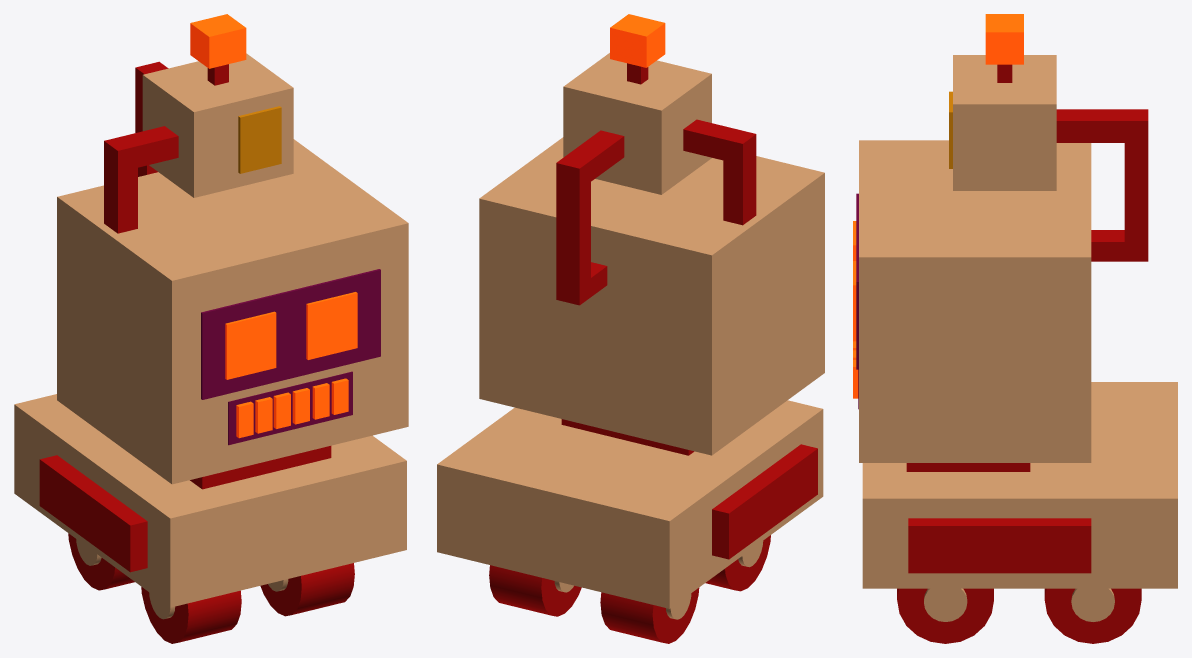
File: EnemyV1.fbx
3 views of the same model, side by side, from view 1: azimuth 30°, elevation 25°; view 2: azimuth 150°, elevation 25°; view 3: azimuth 270°, elevation 25° (orthographic). The views are drawn at different scales.
Parts seen in each view (by area): view 1: pCube24, pCube31, pCube23, pCube5, pCube27, pCube19, pCube17, pCylinder5, pCylinder7, pCube6, pCube8, pCube32 (+5 smaller); view 2: pCube24, pCube31, pCube23, pCube18, pCube27, pCube19, pCylinder9, pCylinder11, pCube29, pCylinder5, pCube28; view 3: pCube24, pCube31, pCube23, pCube26, pCube18, pCylinder11, pCylinder7, pCube29, pCylinder8, pCylinder12, pCube28, pCube5.
Boxes of the visible parts, x1,y1,x2,y2 form: pCube24: (57,139,408,484); pCube31: (14,394,406,607); pCube23: (142,53,293,197); pCube5: (201,269,380,399); pCube27: (39,455,147,572); pCube19: (104,126,178,233); pCube17: (236,378,348,438); pCylinder5: (141,587,241,643); pCylinder7: (260,563,354,616); pCube6: (225,311,276,379); pCube8: (306,292,357,359); pCube32: (238,106,281,173); pCube24: (479,137,824,455); pCube31: (437,400,823,608); pCube23: (563,53,711,194); pCube18: (556,130,624,305); pCube27: (712,444,817,559); pCube19: (683,119,756,225); pCylinder9: (600,587,699,643); pCylinder11: (489,565,581,616); pCube29: (610,14,665,67); pCylinder5: (705,535,770,591); pCube28: (561,419,694,455); pCube24: (859,140,1091,462); pCube31: (862,382,1177,588); pCube23: (953,55,1056,190); pCube26: (908,518,1091,573); pCube18: (1056,109,1148,261); pCylinder11: (1044,588,1141,643); pCylinder7: (897,588,993,643); pCube29: (985,14,1023,64); pCylinder8: (924,588,967,621); pCylinder12: (1071,588,1114,621); pCube28: (906,463,1030,471); pCube5: (856,193,858,369).
Size of the model in its own units: 4.1 by 8.34 by 4.24.
